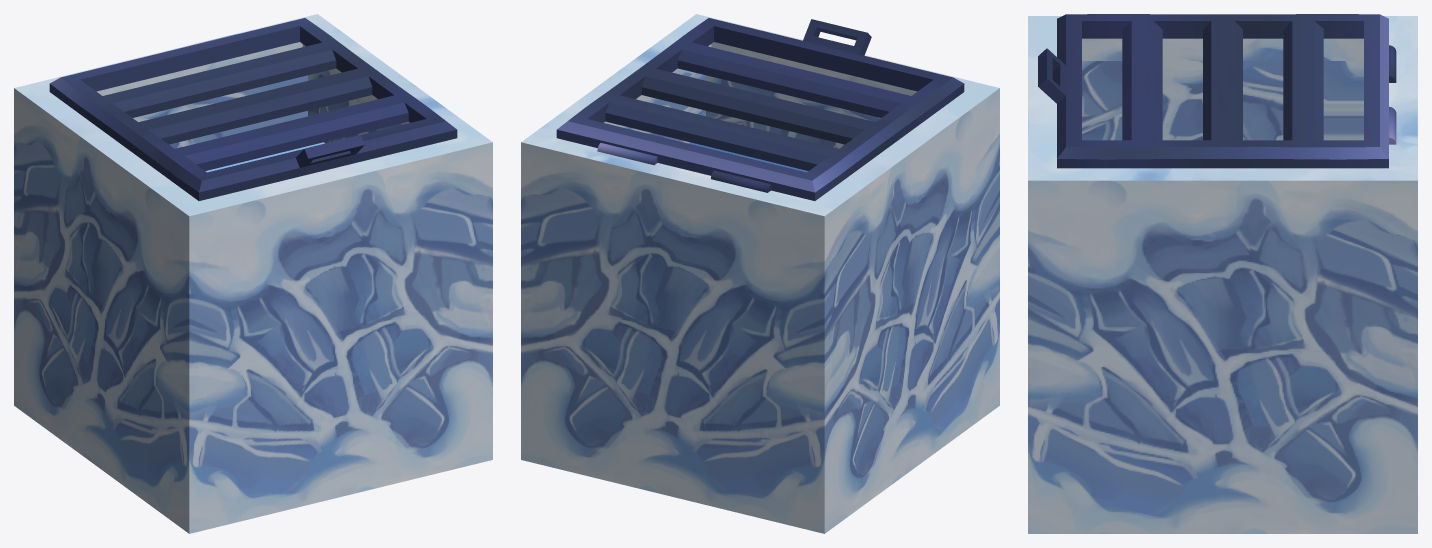
The model's file is freezer02.fbx.
The picture shows the model from 3 angles, left to right: view 1: azimuth 30°, elevation 25°; view 2: azimuth 150°, elevation 25°; view 3: azimuth 270°, elevation 25°; orthographic projection. The views are drawn at different scales.
Parts seen in each view (by area): view 1: freezer1_freezerHatch2; view 2: freezer1_freezerHatch2; view 3: freezer1_freezerHatch2.
Part boxes in pixels (<box>): freezer1_freezerHatch2: <box>14,14,492,533</box>; freezer1_freezerHatch2: <box>521,14,999,533</box>; freezer1_freezerHatch2: <box>1028,14,1417,533</box>.
Bounding box in the file's own units: 100 × 110 × 100.
